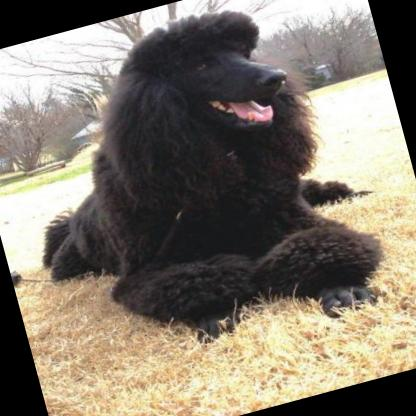standard_poodle: (0, 0, 397, 389)
